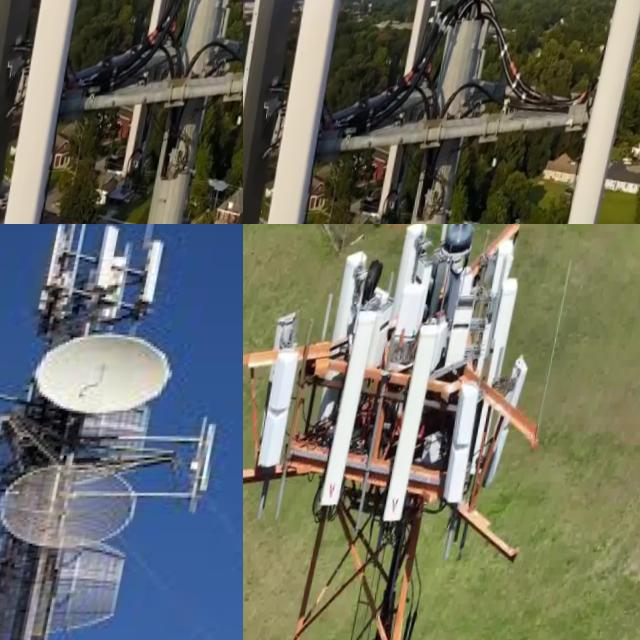GSM Antenna: (378, 0, 460, 224), (115, 0, 199, 217), (272, 0, 344, 224), (12, 0, 83, 224), (317, 311, 385, 531), (445, 0, 517, 205), (382, 321, 449, 541), (243, 0, 307, 224), (485, 358, 541, 504), (438, 386, 494, 529), (252, 347, 310, 484), (194, 0, 243, 141), (386, 224, 439, 331), (479, 287, 527, 399), (334, 249, 376, 343), (134, 241, 177, 325), (88, 224, 133, 302), (38, 224, 84, 297), (485, 245, 522, 319)
Microwave Antenna: (15, 326, 195, 443), (0, 448, 159, 574), (174, 414, 243, 529)
